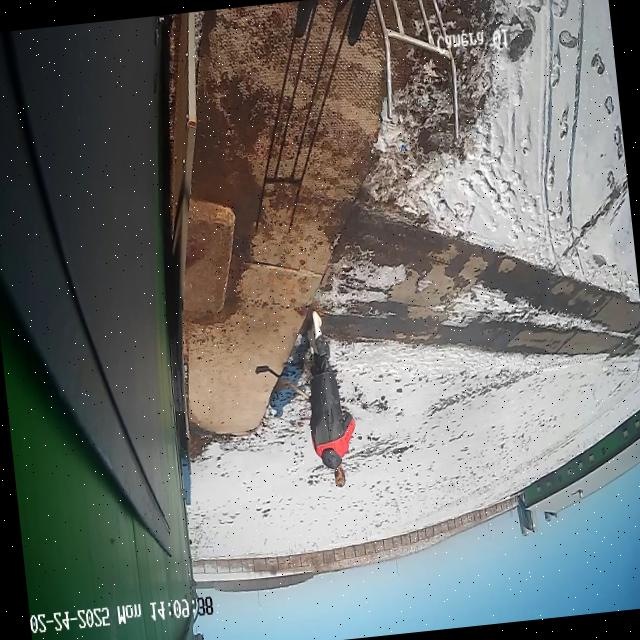Red uniform: (296, 304, 362, 491)
